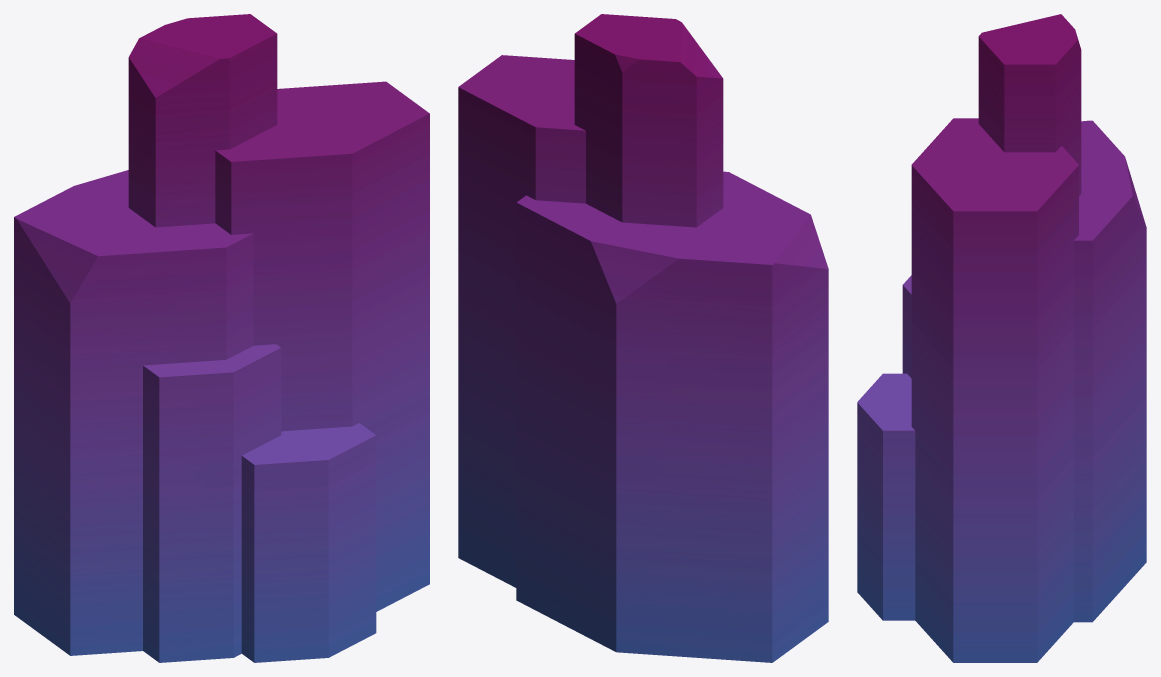
File: rocatopacio_05.fbx
3 renders of one model, left to right at view 1: azimuth 30°, elevation 25°; view 2: azimuth 150°, elevation 25°; view 3: azimuth 270°, elevation 25°, orthographic. The views are drawn at different scales.
Visible parts, largest first — view 1: cueva09.001; view 2: cueva09.001; view 3: cueva09.001.
Boxes of the visible parts, x1,y1,x2,y2 form: cueva09.001: (14,14,429,662); cueva09.001: (458,14,828,662); cueva09.001: (857,14,1146,662).
Size of the model in its own units: 740 by 1159 by 564.
Materials: 1 (1 with a texture image).
